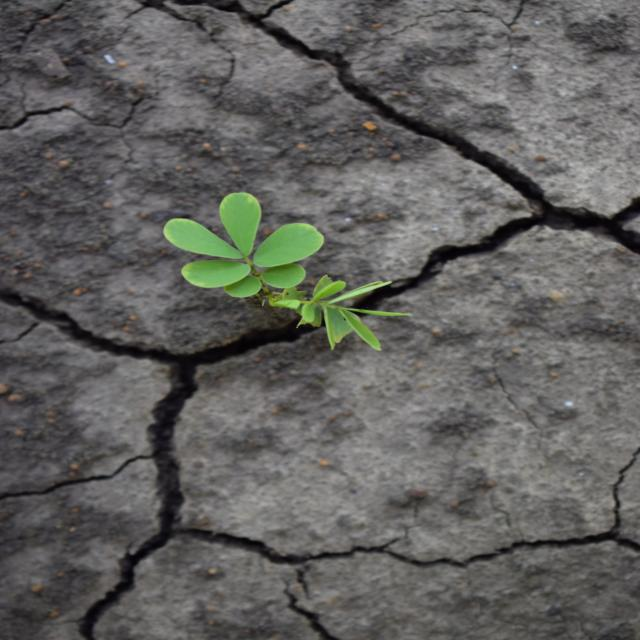Sicklepod: (160, 191, 416, 352)
